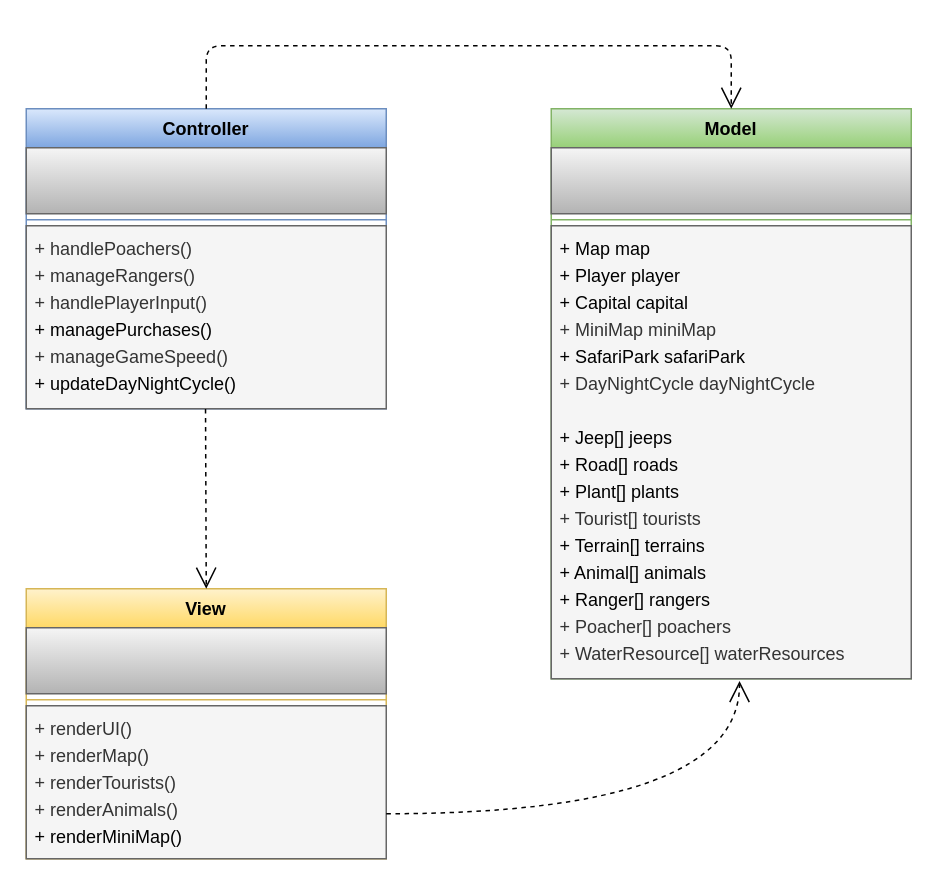
Some shapes in this 938 by 890 pixel diagram are drawn without their labels. The shapes that lost their labels are listed below. From the top down, each one's centre as x and y in pixels, then its label:
At [205,180]: "updates Model based on input updates View based on Model changes".
At [730,180]: "cannot see the View nor can see the Controller".
At [205,660]: "renders data from Model cannot see the Controller".
